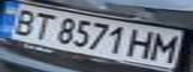1: (106, 24, 130, 56)
5: (69, 18, 93, 50)
7: (87, 20, 109, 52)
8: (51, 15, 78, 46)
B: (3, 6, 42, 36)
H: (127, 27, 160, 61)
M: (148, 32, 181, 63)
T: (24, 10, 60, 40)
